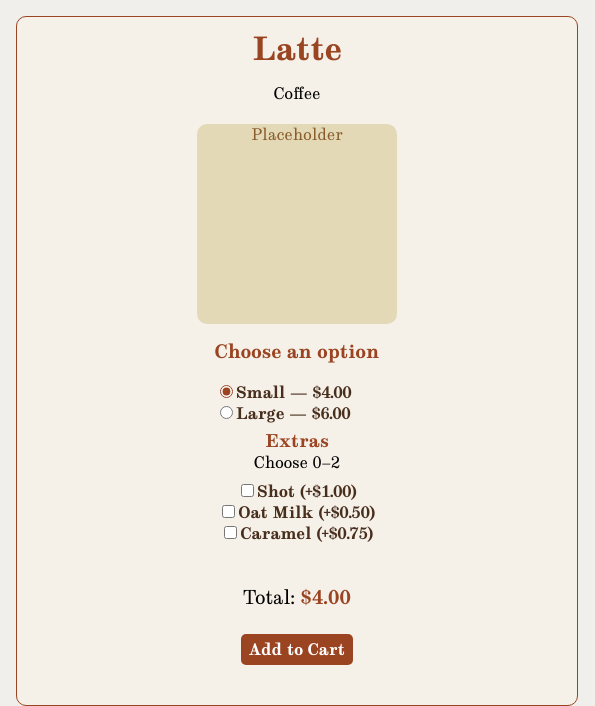
Test case: ProductPage › shows out of stock and hides add to cart when selected variant has zero stock
Expected: the heading "Latte" is shown, [252,27,342,69]
Click the radio button labelled "Large — $6.00".
click(226, 412)  # box [220,406,233,419]
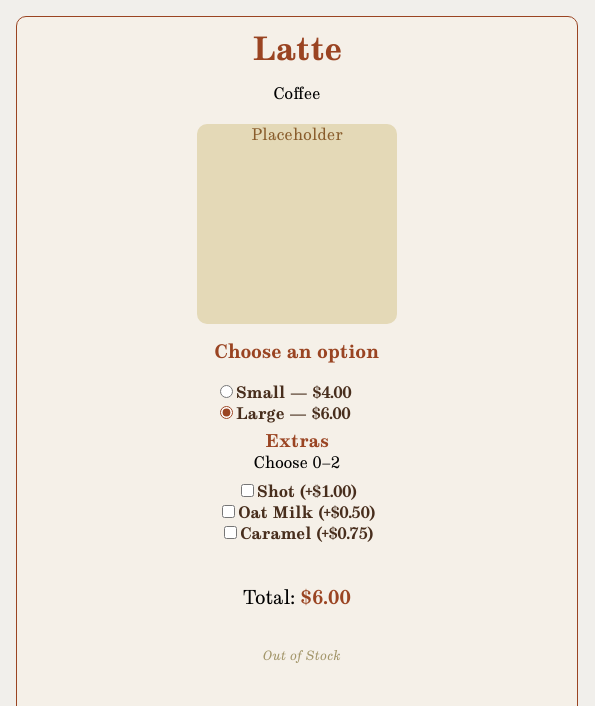
Result: the text "Out of Stock" is shown at [263,647,341,664]
Result: the button "Add to Cart" is gone
